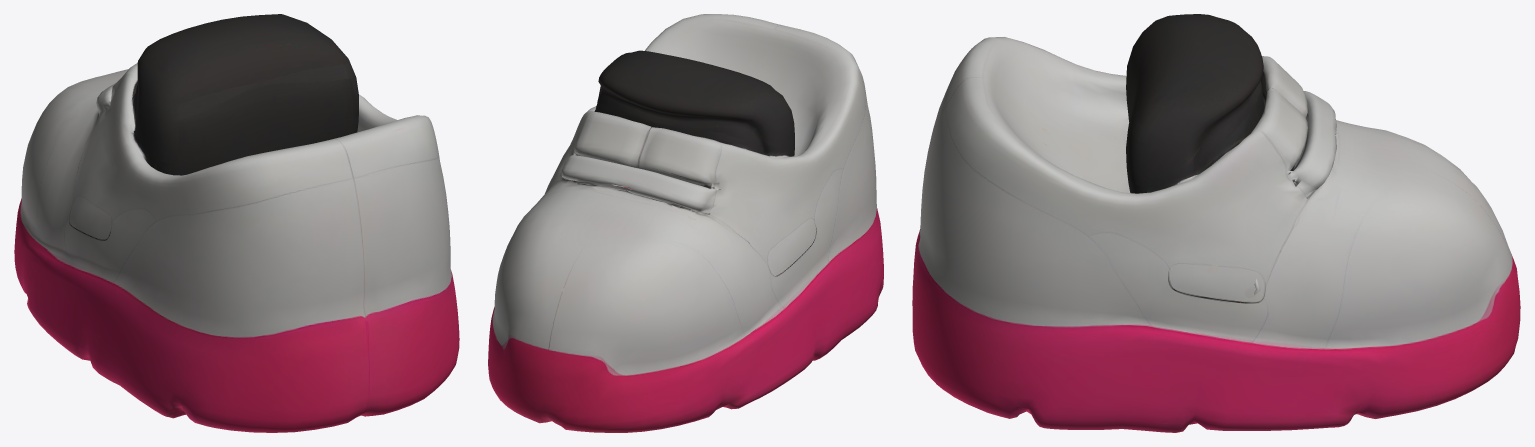
File: chr_player_capsule01_bunny01_foot_r_top3d_v004.glb
3 renders of one model, left to right at view 1: azimuth 30°, elevation 25°; view 2: azimuth 150°, elevation 25°; view 3: azimuth 270°, elevation 25°, orthographic. The views are drawn at different scales.
Parts seen in each view (by area): view 1: EXPORT_chr_player_capsule01_bunny01_foot_r_top3d_v004_00; view 2: EXPORT_chr_player_capsule01_bunny01_foot_r_top3d_v004_00; view 3: EXPORT_chr_player_capsule01_bunny01_foot_r_top3d_v004_00.
Boxes of the visible parts, x1=… form: EXPORT_chr_player_capsule01_bunny01_foot_r_top3d_v004_00: x1=14, y1=14, x2=459, y2=432; EXPORT_chr_player_capsule01_bunny01_foot_r_top3d_v004_00: x1=488, y1=14, x2=883, y2=432; EXPORT_chr_player_capsule01_bunny01_foot_r_top3d_v004_00: x1=912, y1=14, x2=1520, y2=432.
Bounding box in the file's own units: 0.3053 × 0.2966 × 0.5064.
1 material, 1 textured.
